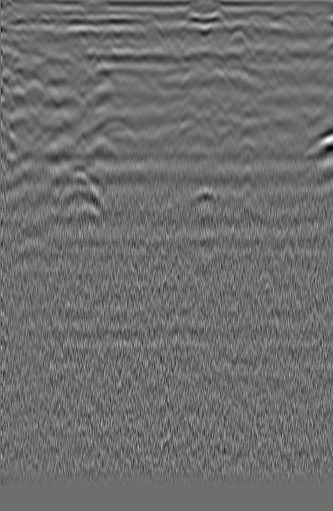상수: (288, 35, 312, 68)
오수: (4, 22, 38, 54)
우수: (137, 20, 170, 64)
